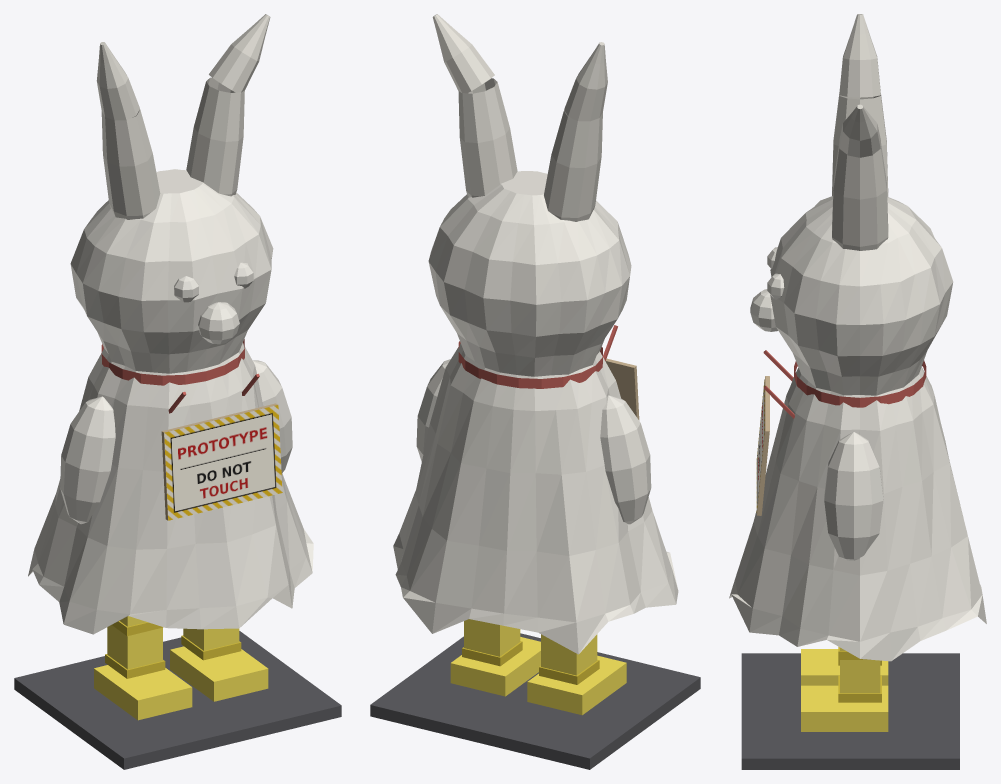
File: prototype_covered.glb
3 renders of one model, left to right at view 1: azimuth 30°, elevation 25°; view 2: azimuth 150°, elevation 25°; view 3: azimuth 270°, elevation 25°, orthographic.
Visible parts, largest first — view 1: cloth_cover, base, legs_yellow, sign_prototype_do_not_touch; view 2: cloth_cover, base, legs_yellow, sign_prototype_do_not_touch; view 3: cloth_cover, base, legs_yellow, sign_prototype_do_not_touch.
Boxes of the visible parts, x1,y1,x2,y2 form: cloth_cover: (28,14,313,634); base: (14,631,341,769); legs_yellow: (94,616,268,720); sign_prototype_do_not_touch: (161,403,282,520); cloth_cover: (393,14,678,654); base: (370,633,700,769); legs_yellow: (450,619,626,715); sign_prototype_do_not_touch: (605,358,639,420); cloth_cover: (729,14,986,661); base: (741,653,959,769); legs_yellow: (801,646,888,731); sign_prototype_do_not_touch: (756,376,769,515).
Bounding box in the file's own units: 0.9674 × 2.37 × 0.8272.
Materials: 8 (1 with a texture image).
